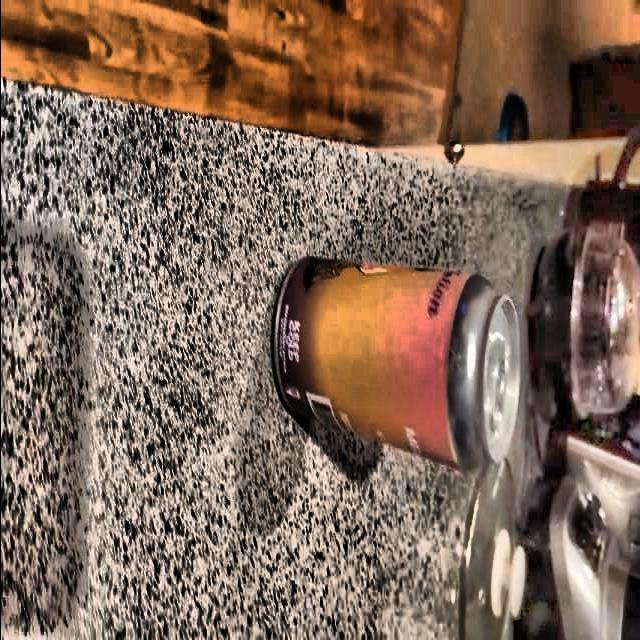litter: (259, 248, 534, 485)
